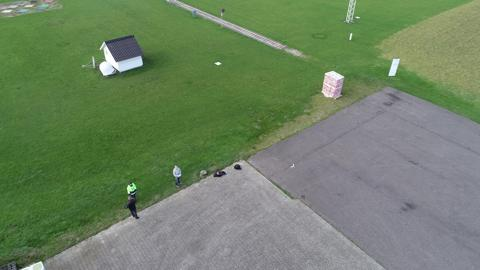RockwoolPallet: (322, 71, 345, 99)
